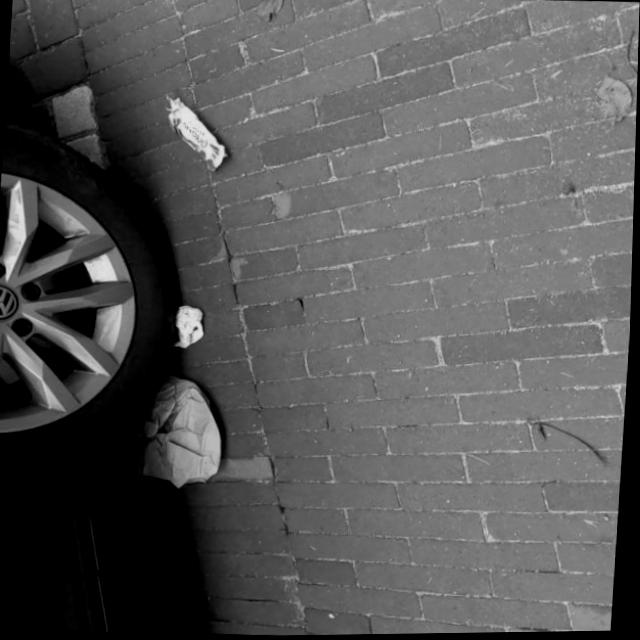Paper: (121, 373, 228, 491), (172, 305, 207, 350)
Plastic: (159, 94, 232, 173)
